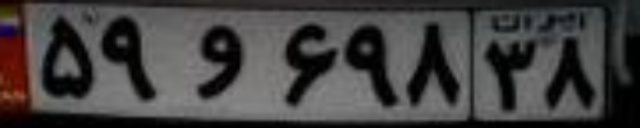3: (483, 39, 542, 110)
5: (41, 13, 96, 99)
6: (279, 23, 337, 105)
8: (401, 20, 459, 107), (543, 34, 599, 111)
9: (340, 22, 399, 107), (100, 13, 157, 99)
vav: (189, 23, 247, 99)
